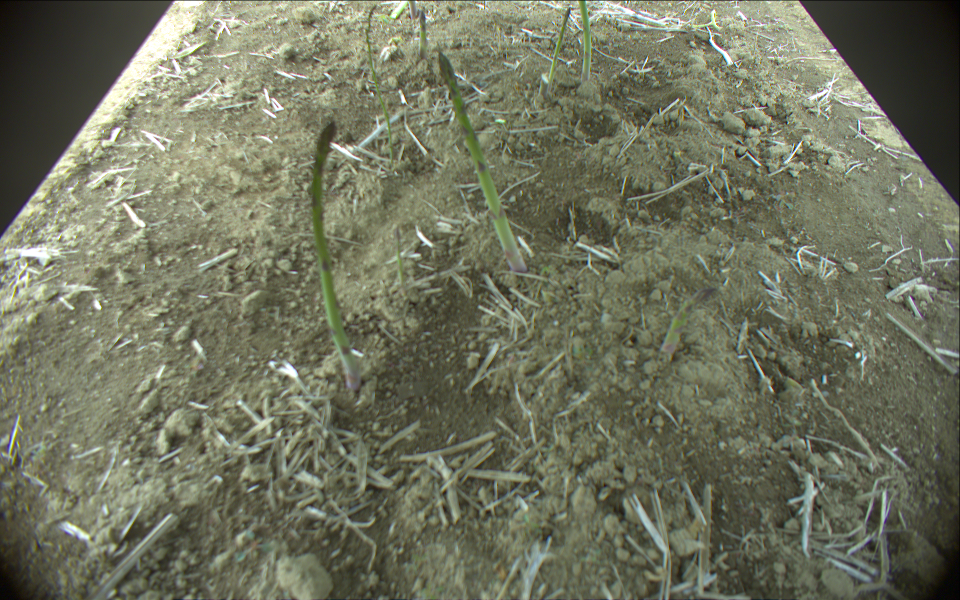aspa: (434, 45, 529, 270), (310, 121, 360, 386), (361, 1, 395, 163), (658, 287, 722, 364), (546, 3, 573, 86), (575, 1, 592, 82), (394, 229, 411, 293), (419, 8, 426, 58), (409, 1, 418, 19)
